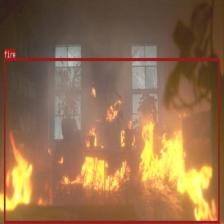fire: (4, 58, 220, 223)
